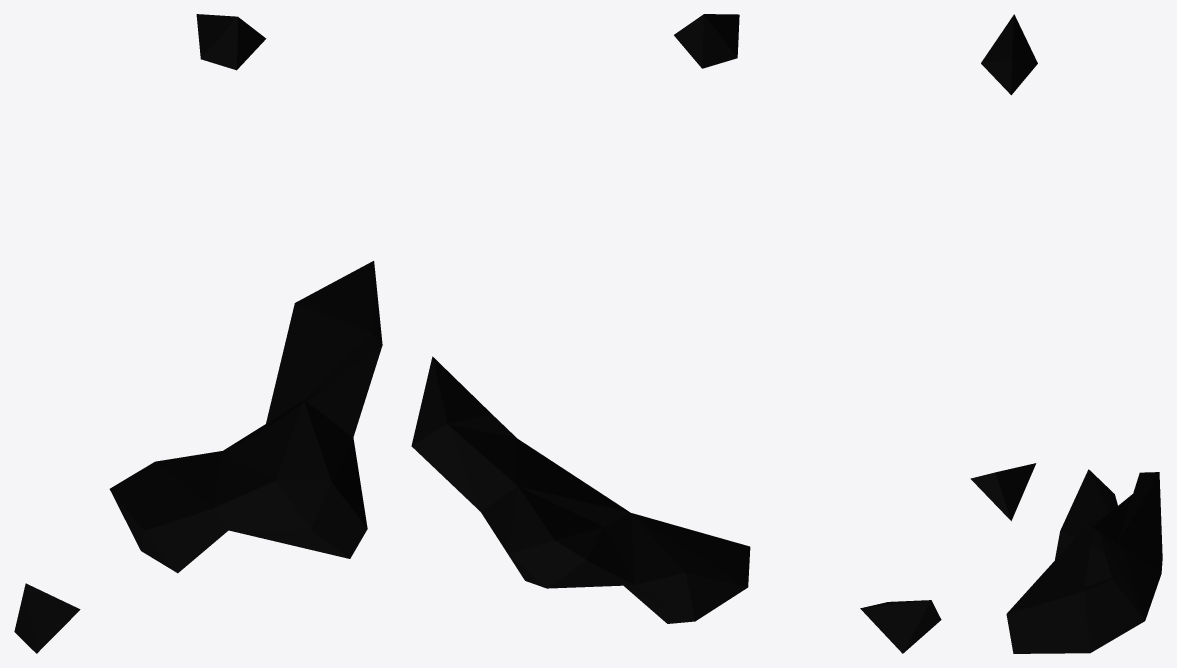
3 views of the same model, side by side, from view 1: azimuth 30°, elevation 25°; view 2: azimuth 150°, elevation 25°; view 3: azimuth 270°, elevation 25° (orthographic). The views are drawn at different scales.
Size of the model in its own units: 0.5994 by 0.7752 by 0.2314.
Materials: 1 (1 with a texture image).
